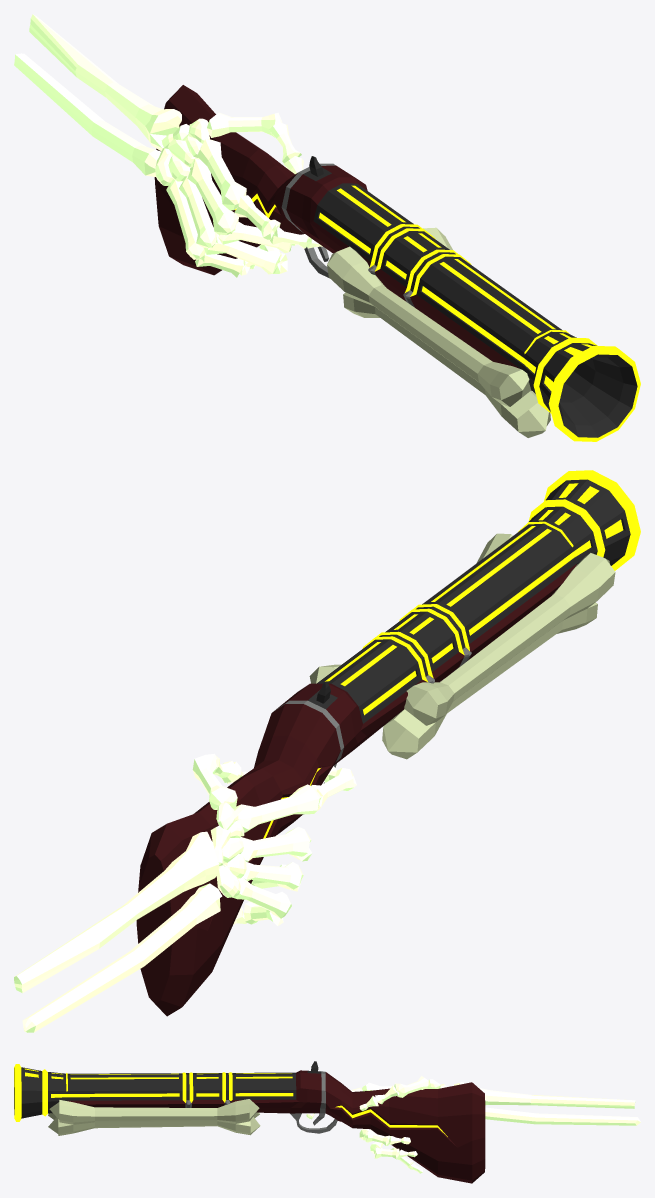
Rendered from skeleton hand shotgun.fbx.
3 renders of one model, top to bottom at view 1: azimuth 30°, elevation 25°; view 2: azimuth 150°, elevation 25°; view 3: azimuth 270°, elevation 25°, orthographic. The views are drawn at different scales.
Visible parts, largest first — view 1: Cube; view 2: Cube; view 3: Cube.
Boxes of the visible parts, x1=… form: Cube: x1=14, y1=14, x2=640, y2=441; Cube: x1=14, y1=470, x2=640, y2=1032; Cube: x1=14, y1=1061, x2=640, y2=1183.
Size of the model in its own units: 79.86 by 132 by 627.
